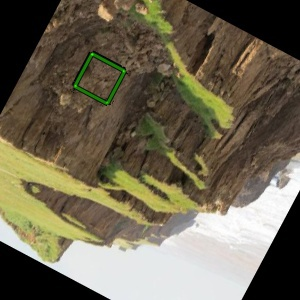square: (70, 49, 129, 108)
